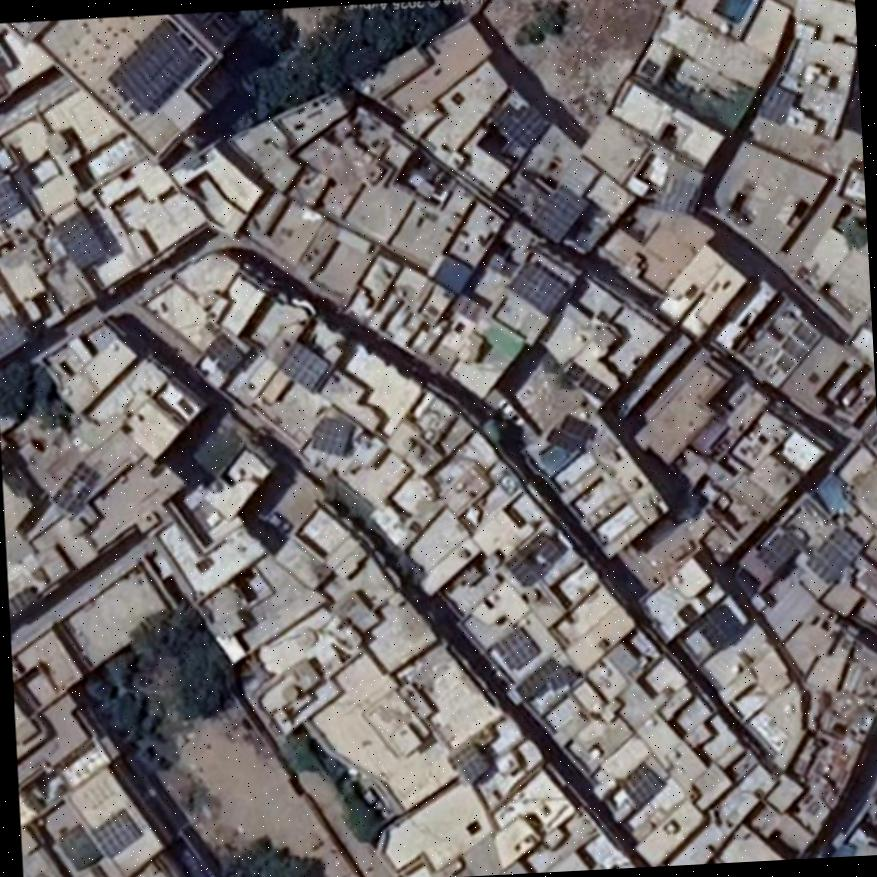Solarpanel: (110, 18, 192, 107), (533, 185, 586, 242), (806, 527, 861, 581), (493, 91, 547, 146), (512, 262, 567, 314), (53, 211, 102, 269), (280, 342, 326, 392), (94, 809, 140, 856), (697, 603, 742, 650), (517, 656, 562, 701), (545, 413, 595, 453), (564, 361, 609, 402), (755, 531, 797, 574), (495, 629, 537, 668), (623, 763, 661, 806), (312, 418, 353, 457), (51, 473, 90, 514), (0, 164, 23, 218), (545, 664, 574, 691)
